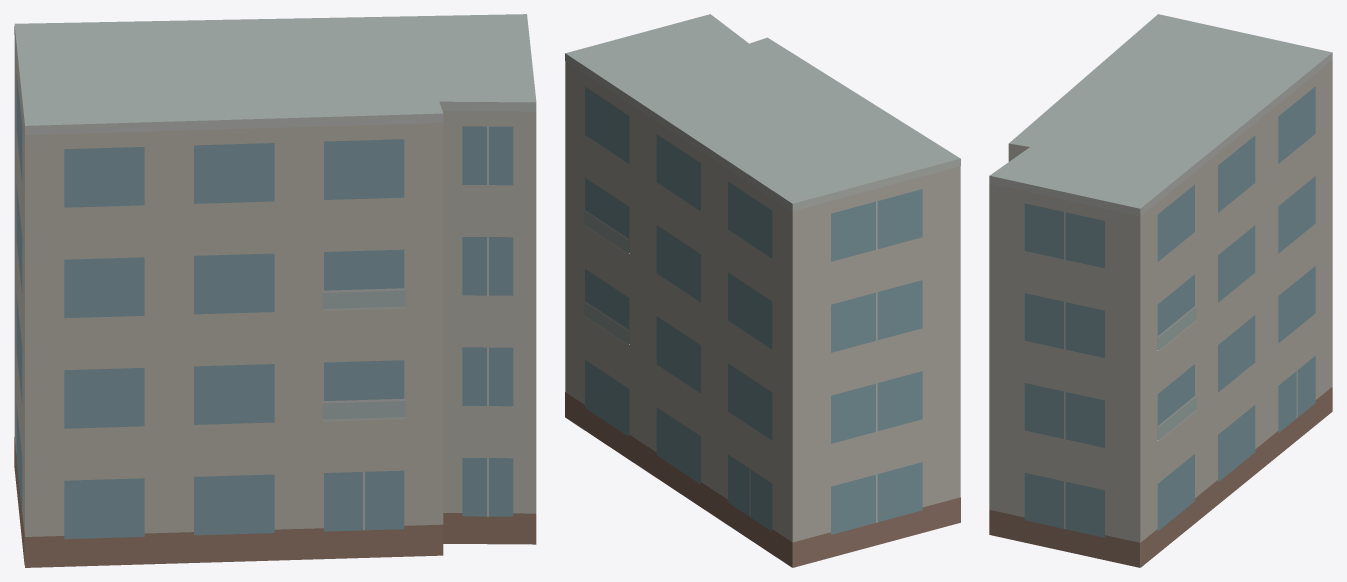
File: survey-upis-33043051.glb
3 views of the same model, side by side, from view 1: azimuth 30°, elevation 25°; view 2: azimuth 150°, elevation 25°; view 3: azimuth 270°, elevation 25° (orthographic). The views are drawn at different scales.
Parts seen in each view (by area): view 1: survey-upis-33043051.tmp; view 2: survey-upis-33043051.tmp; view 3: survey-upis-33043051.tmp.
Boxes of the visible parts, x1,y1,x2,y2 form: survey-upis-33043051.tmp: [14, 14, 536, 567]; survey-upis-33043051.tmp: [565, 14, 960, 567]; survey-upis-33043051.tmp: [989, 14, 1332, 567].
Size of the model in its own units: 13.61 by 11.7 by 10.14.
